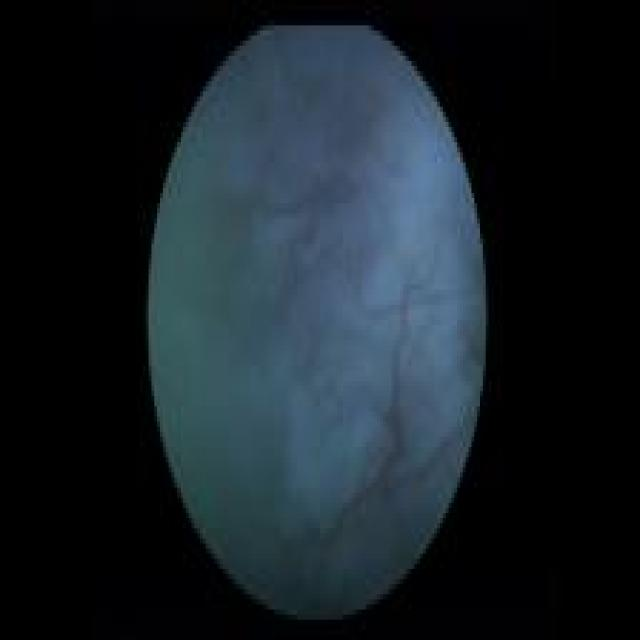color misalignment: (148, 63, 280, 616)
